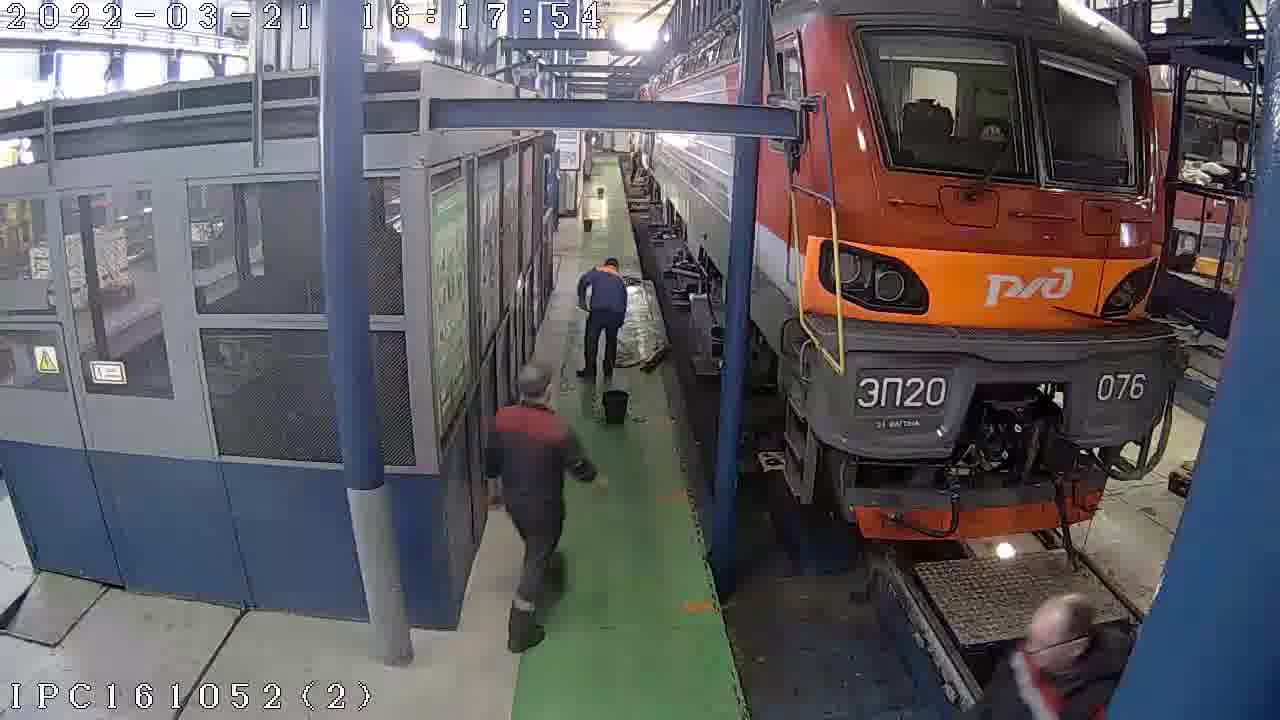person: (465, 352, 613, 661), (960, 574, 1134, 720), (570, 248, 629, 380), (622, 149, 639, 190)
worker: (639, 0, 1248, 543)
